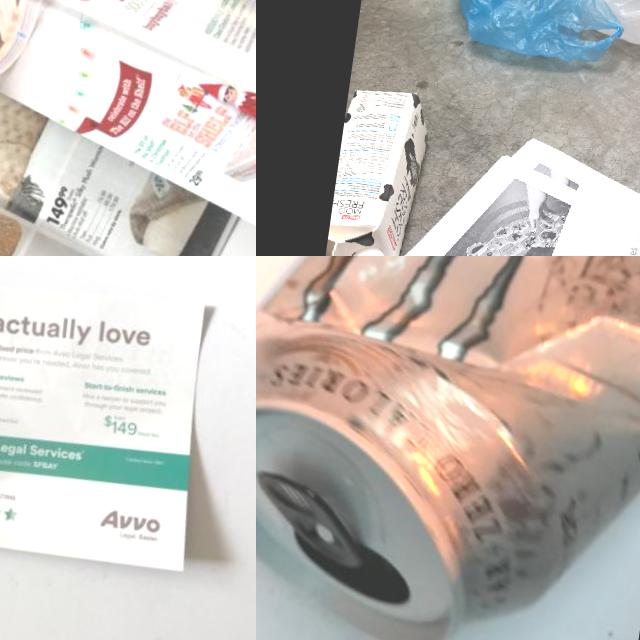aba de lata: (256, 462, 381, 574)
caixinha: (320, 83, 437, 256)
lata: (256, 256, 640, 640)
papel: (0, 256, 224, 575), (0, 0, 256, 256), (288, 111, 640, 256)
sacola plástica: (439, 0, 634, 68)
tampa plástica: (349, 247, 390, 256)
